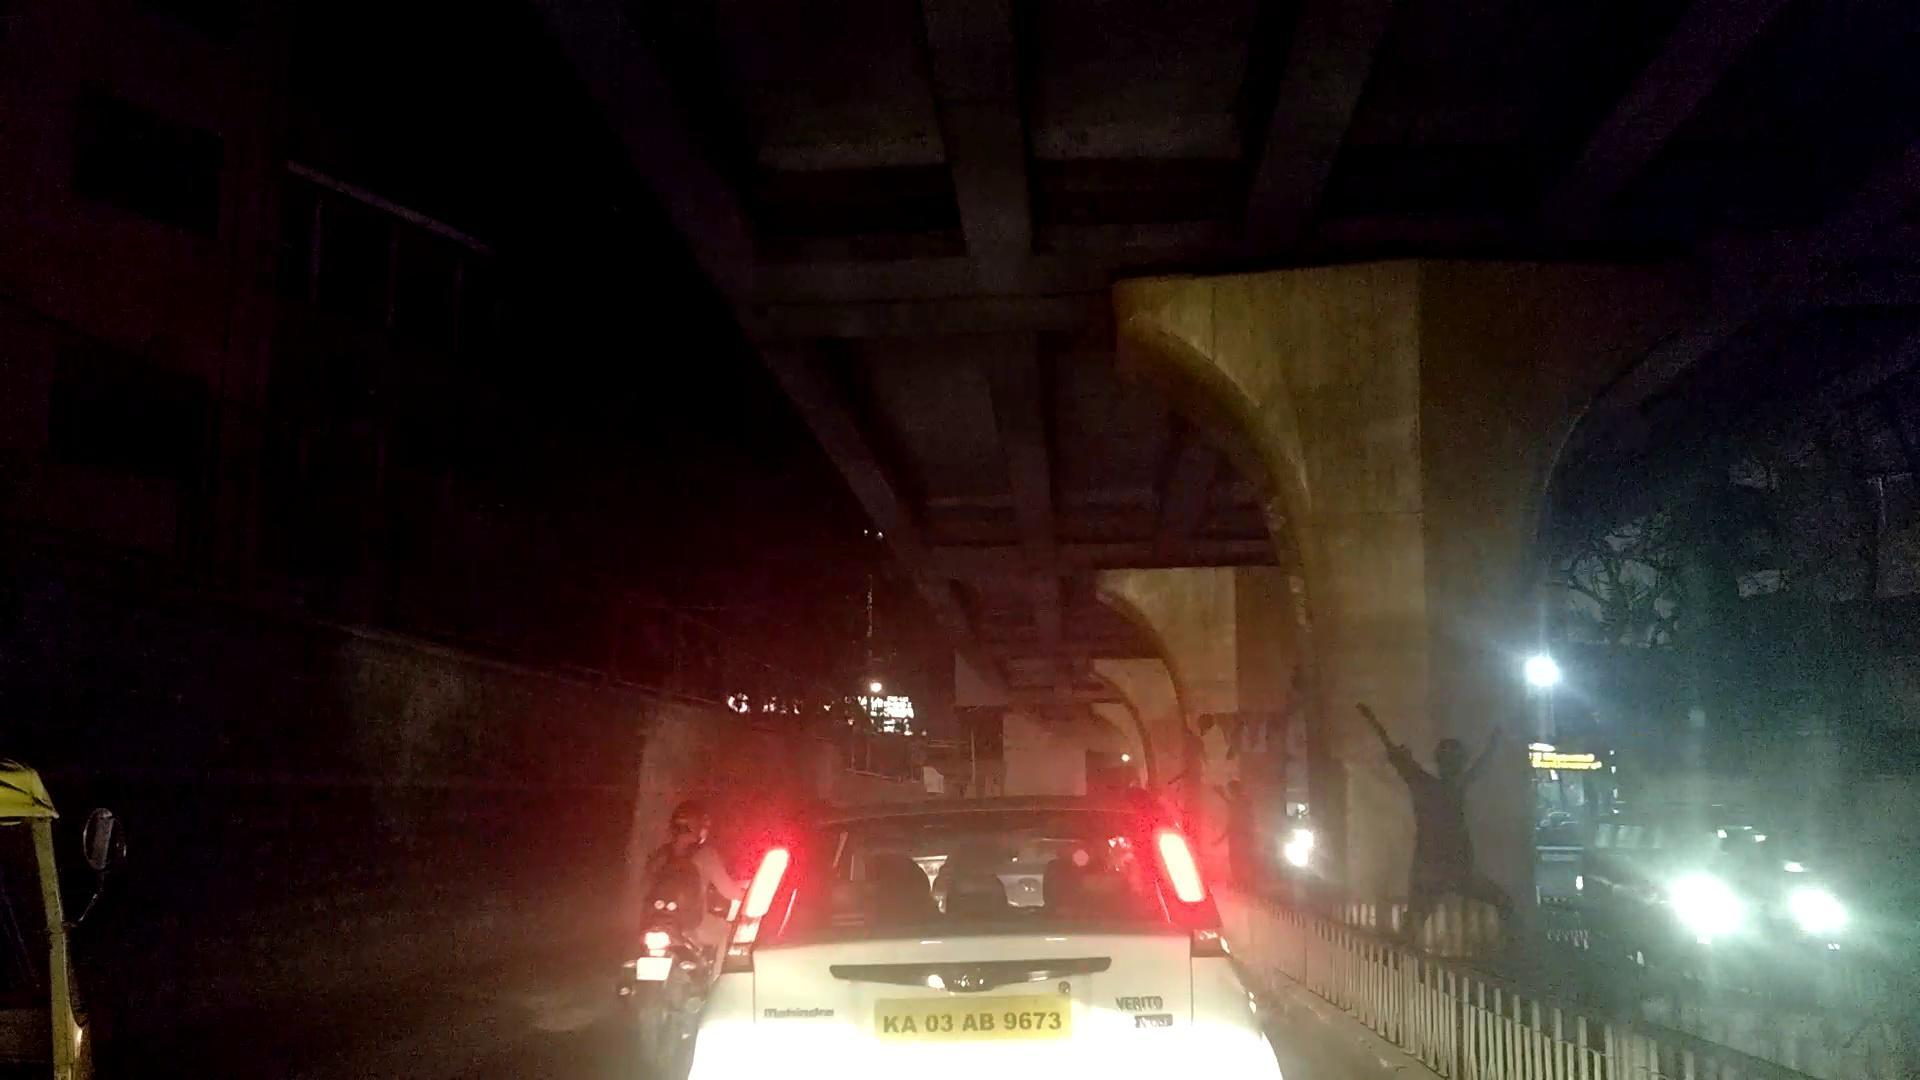on: (1400, 531, 1687, 803)
